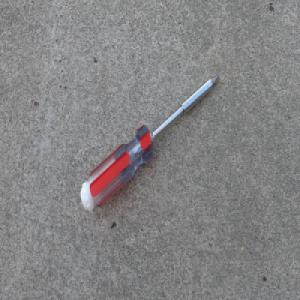Screwdriver: (80, 73, 220, 212)
